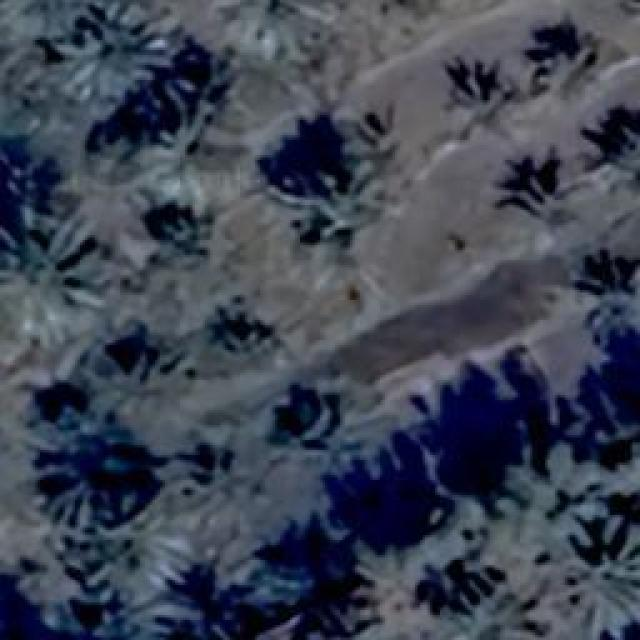PalmTree: (52, 16, 339, 610), (260, 112, 385, 248), (72, 490, 198, 595), (52, 10, 178, 100), (0, 208, 110, 310), (547, 512, 635, 638), (492, 430, 592, 535), (374, 476, 478, 574), (178, 438, 274, 534), (100, 328, 190, 418), (138, 90, 228, 180), (277, 378, 375, 460), (215, 0, 330, 60), (580, 386, 640, 492), (570, 244, 640, 334), (436, 56, 512, 136), (530, 16, 600, 96), (445, 580, 545, 635), (52, 598, 172, 640), (150, 208, 228, 272), (175, 592, 272, 640), (501, 154, 571, 218), (592, 106, 640, 192), (216, 304, 279, 358)
